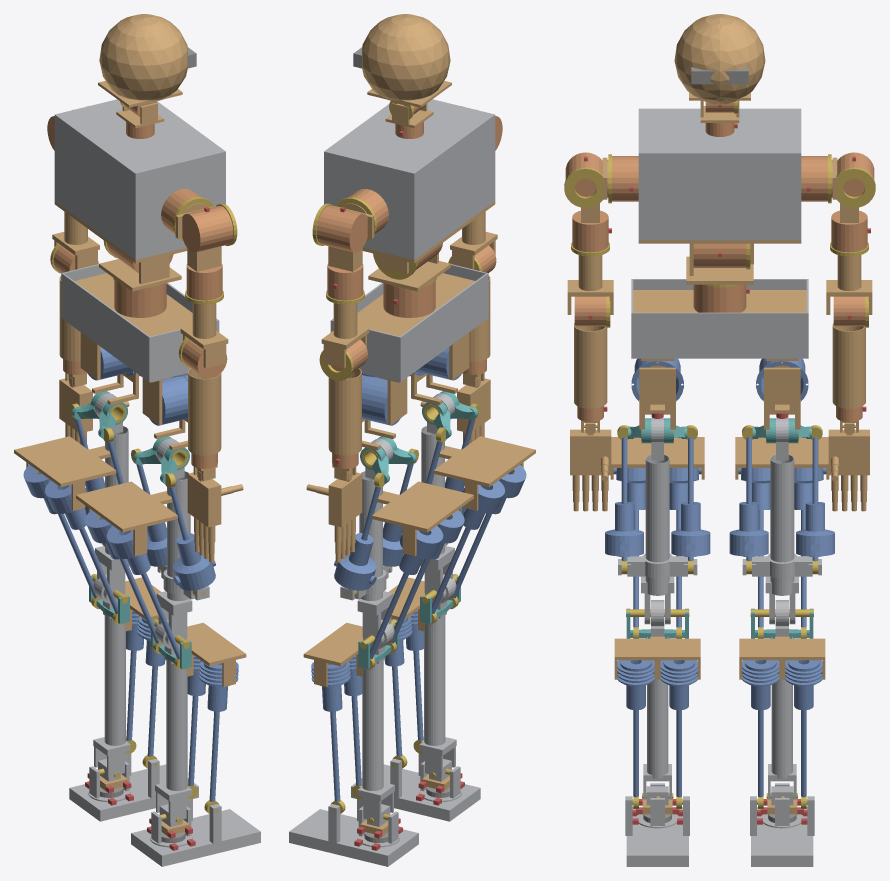
Rendered from bhl_v4.glb.
3 views of the same model, side by side, from view 1: azimuth 30°, elevation 25°; view 2: azimuth 150°, elevation 25°; view 3: azimuth 270°, elevation 25° (orthographic).
Visible parts, largest first — view 1: p009, p000, p104, p306, p263, p161, p167, p269, p072, p204, p108, p060 (+46 smaller); view 2: p009, p000, p104, p204, p161, p263, p269, p167, p030, p306, p108, p018 (+45 smaller); view 3: p009, p000, p104, p125, p227, p108, p030, p072, p204, p306, p167, p269 (+43 smaller).
Part boxes in pixels (bbox=[...]): p009: bbox=[54, 99, 225, 259]; p000: bbox=[61, 264, 219, 382]; p104: bbox=[99, 14, 188, 101]; p306: bbox=[131, 809, 260, 866]; p263: bbox=[76, 481, 177, 532]; p161: bbox=[14, 436, 116, 487]; p167: bbox=[104, 614, 125, 745]; p269: bbox=[166, 659, 187, 790]; p072: bbox=[188, 368, 221, 455]; p204: bbox=[69, 764, 198, 821]; p108: bbox=[74, 273, 192, 336]; p060: bbox=[182, 205, 233, 252]; p009: bbox=[324, 99, 495, 259]; p000: bbox=[330, 264, 488, 382]; p104: bbox=[361, 14, 450, 101]; p204: bbox=[289, 809, 418, 866]; p161: bbox=[372, 481, 473, 532]; p263: bbox=[433, 436, 535, 487]; p269: bbox=[424, 614, 445, 745]; p167: bbox=[362, 659, 383, 790]; p030: bbox=[328, 368, 361, 455]; p306: bbox=[351, 764, 480, 821]; p108: bbox=[357, 273, 475, 336]; p018: bbox=[316, 205, 367, 252]; p009: bbox=[638, 108, 801, 240]; p000: bbox=[631, 279, 808, 358]; p104: bbox=[674, 14, 765, 104]; p125: bbox=[770, 454, 794, 595]; p227: bbox=[645, 454, 669, 595]; p108: bbox=[633, 290, 806, 312]; p030: bbox=[832, 323, 865, 408]; p072: bbox=[574, 323, 607, 408]; p204: bbox=[751, 807, 813, 866]; p306: bbox=[626, 807, 688, 866]; p167: bbox=[771, 637, 792, 778]; p269: bbox=[647, 637, 668, 778].
Bounding box in the file's own units: 0.3558 × 1.88 × 0.6493.
